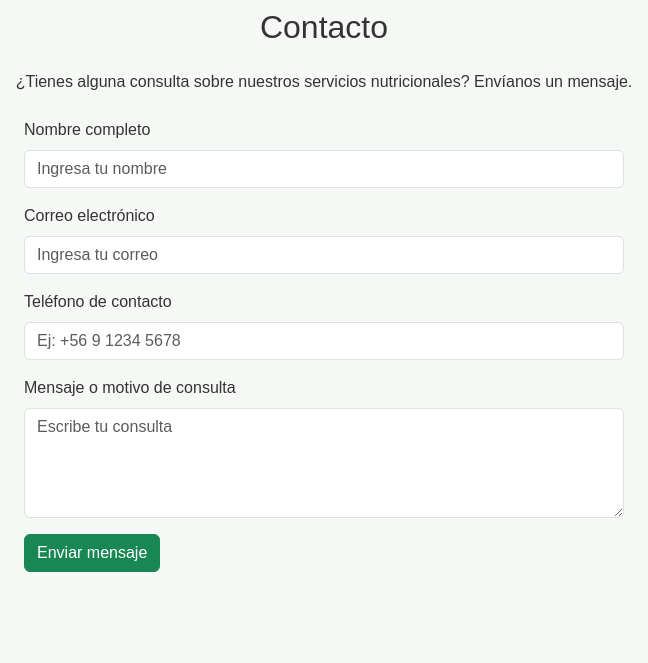
Test case: Pruebas del formulario de Contacto › Debe mostrar una confirmación y limpiar los campos si los datos son correctos
In the field labelled "Nombre completo": (324, 169) [24,150,624,188], type "Camila"
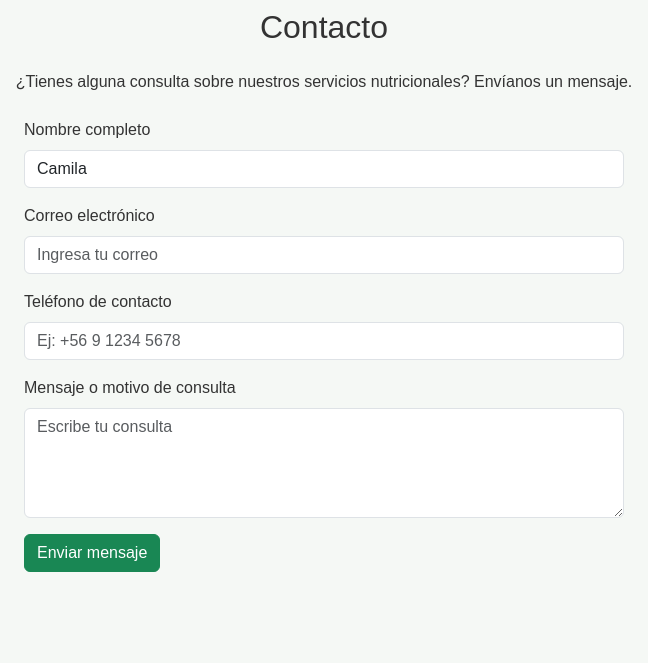
In the field labelled "Correo electrónico": (324, 255) [24,236,624,274], type "camila@gmail.com"
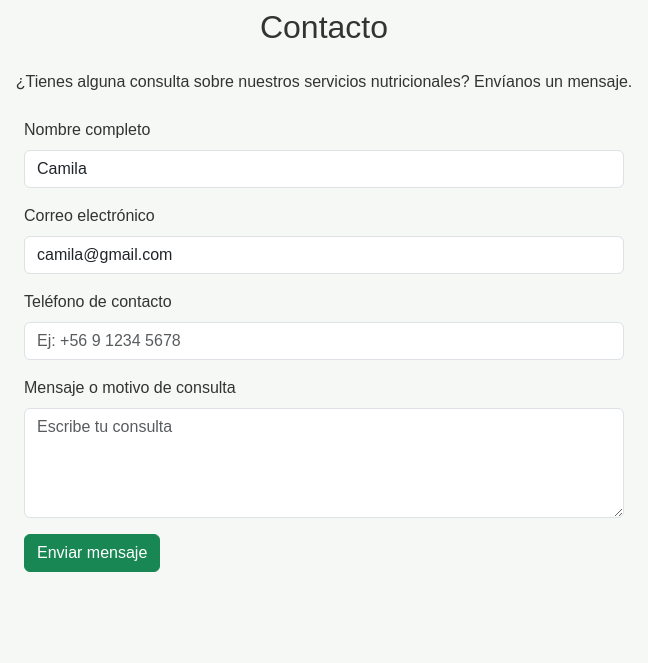
In the field labelled "Teléfono de contacto": (324, 341) [24,322,624,360], type "+56912345678"
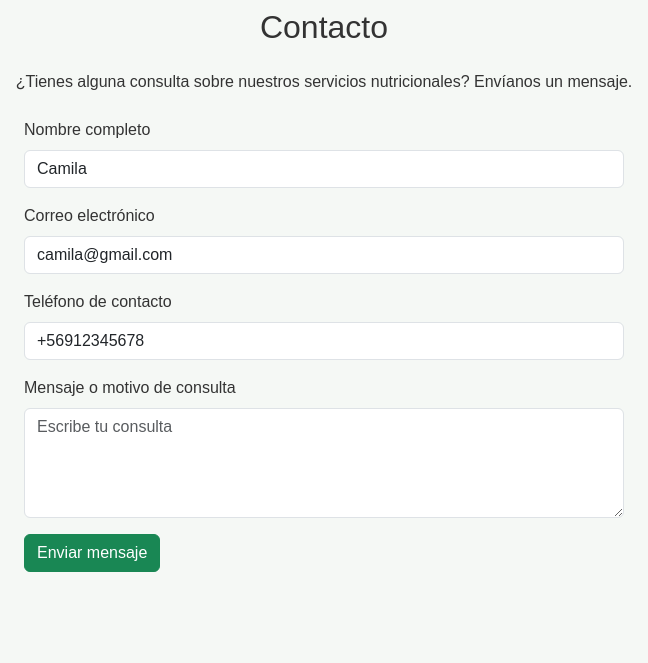
In the text box labelled "Mensaje o motivo de consulta": (324, 463) [24,408,624,518], type "Quiero conocer los servicios"
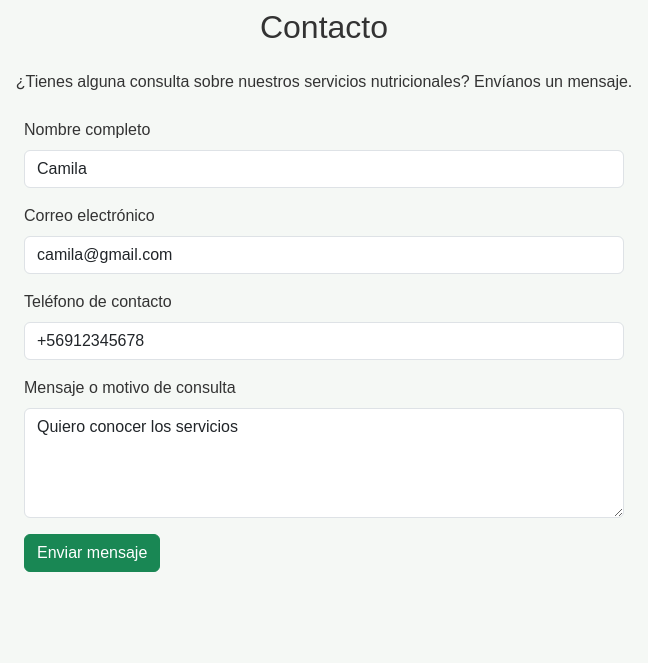
Click the button "Enviar mensaje": (92, 553) [24,534,160,572]
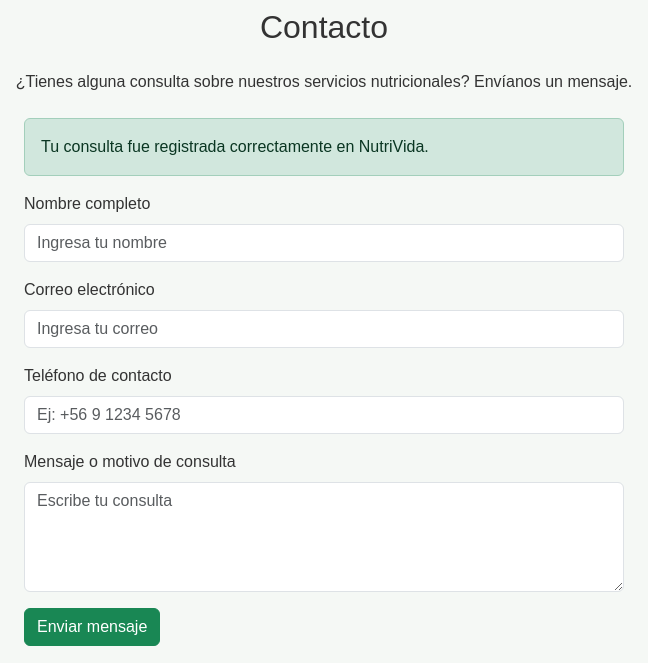
Check: the message reads "Tu consulta fue registrada correctamente en NutriVida.", box [41,138,429,155]
Check: the field labelled "Nombre completo" is empty, box [24,224,624,262]
Check: the field labelled "Correo electrónico" is empty, box [24,310,624,348]
